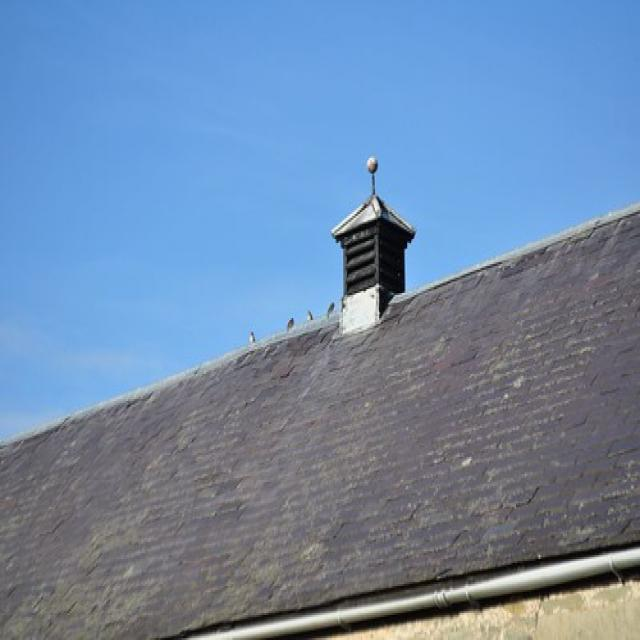bird: (286, 316, 296, 332)
